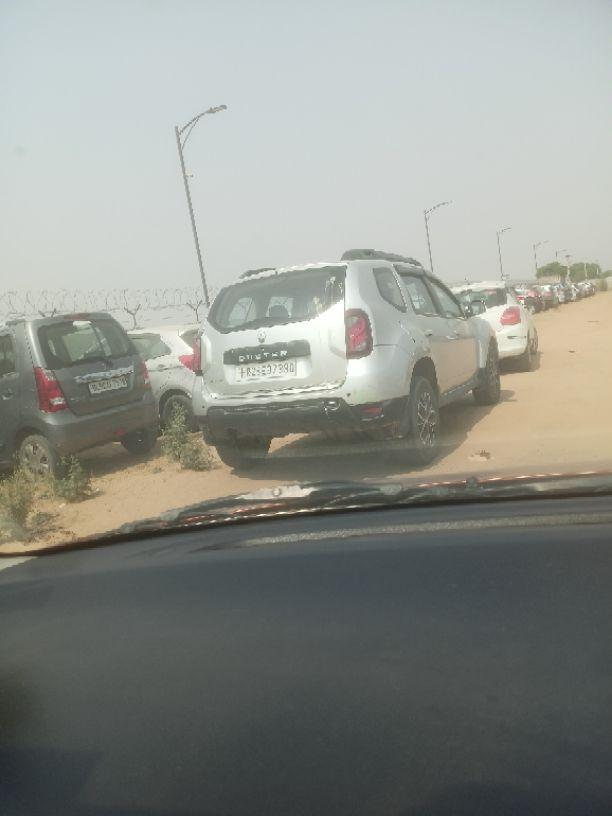license_plate: (233, 358, 297, 380), (86, 374, 129, 395)
